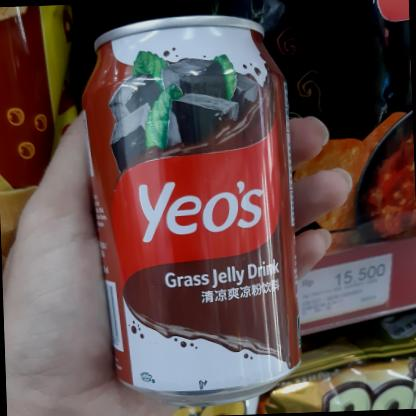alumunium_can: (66, 4, 333, 415)
